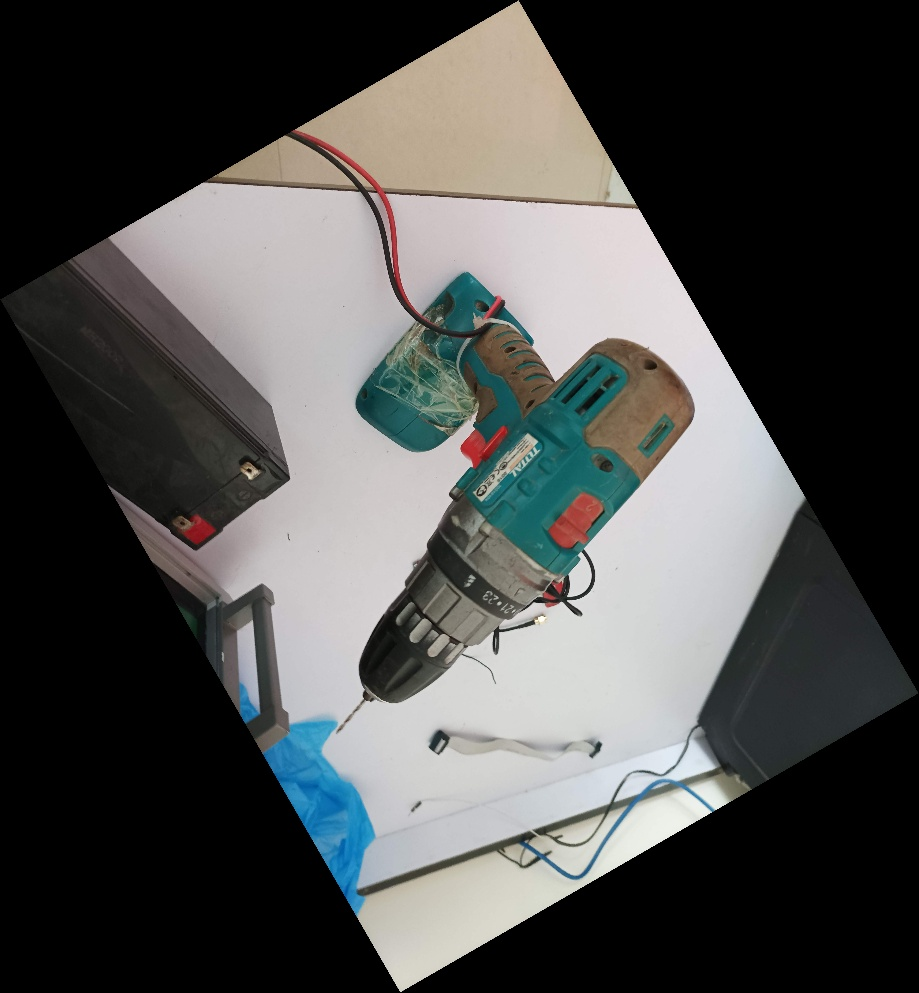driller: (331, 265, 699, 738)
